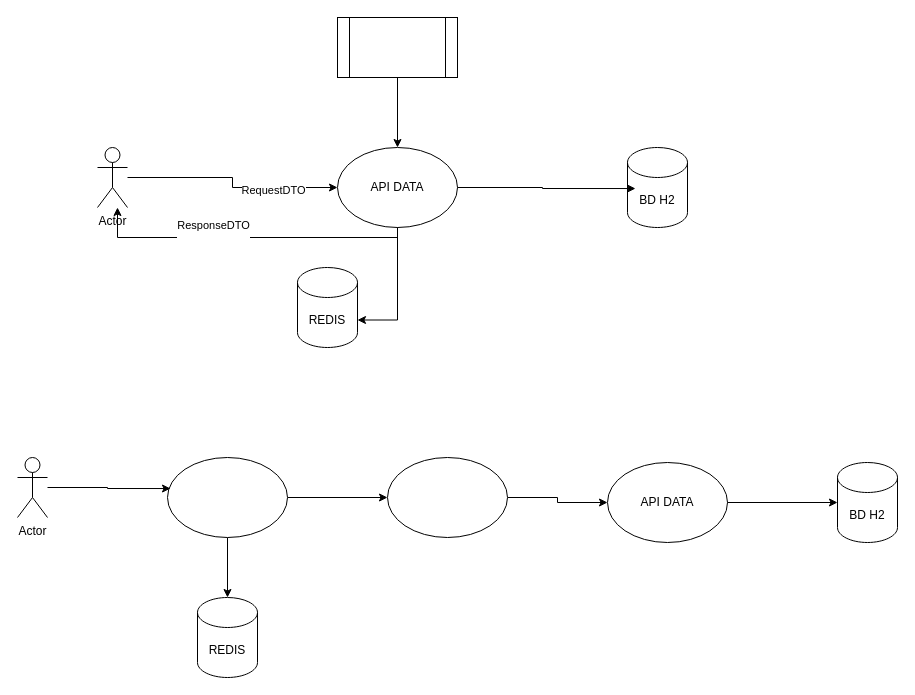
The diagram is 915 pixels wide and 695 high, and some of its shapes have lost their labels. The shapes that lost their labels are listed below. From the top down, each one's box as (x1, y1, x2, y2) in pixels, then its label:
(336, 16, 458, 78): RequestDTO - Entity
(166, 456, 288, 538): API UX
(386, 456, 508, 538): API BS
